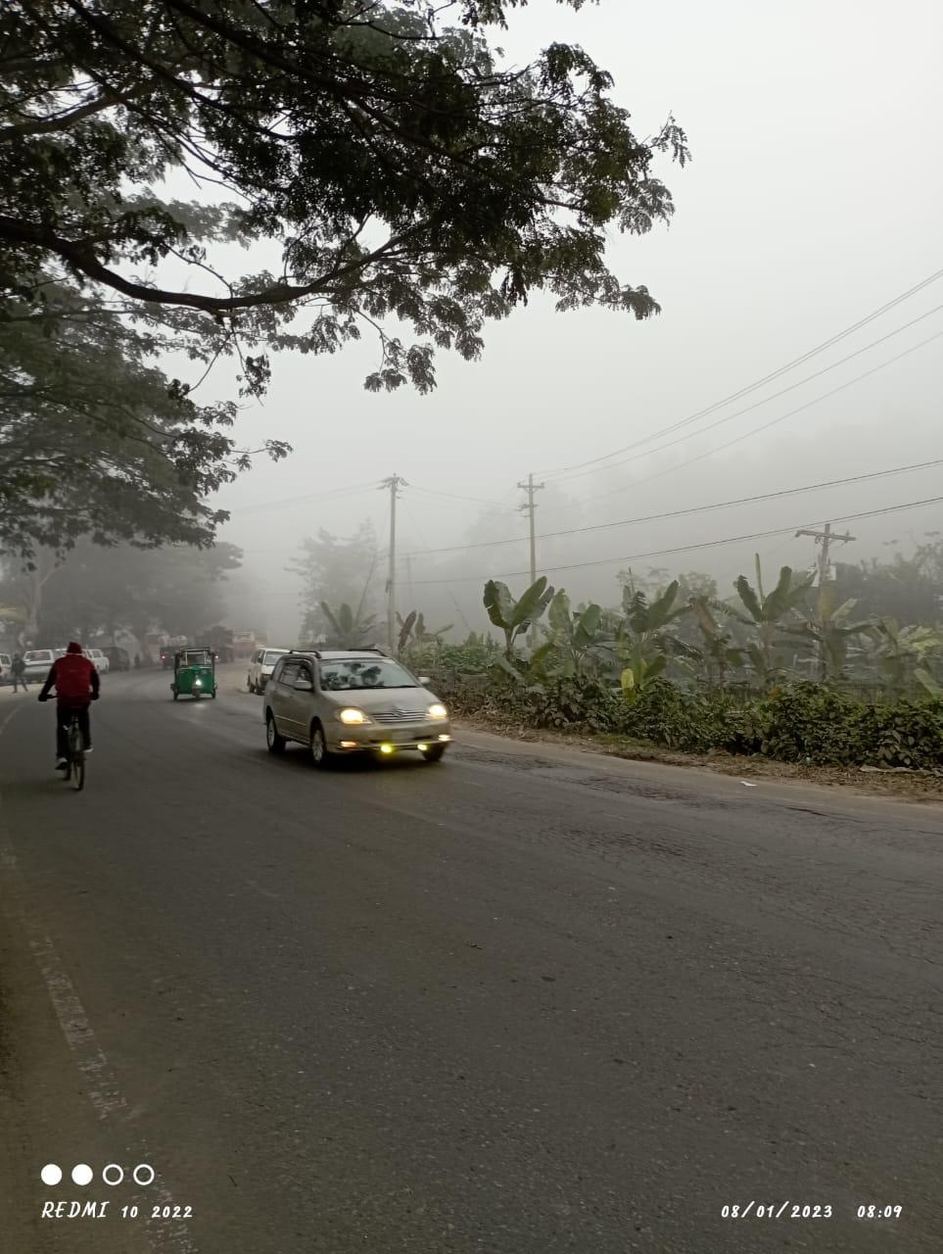Car: (255, 648, 459, 780)
